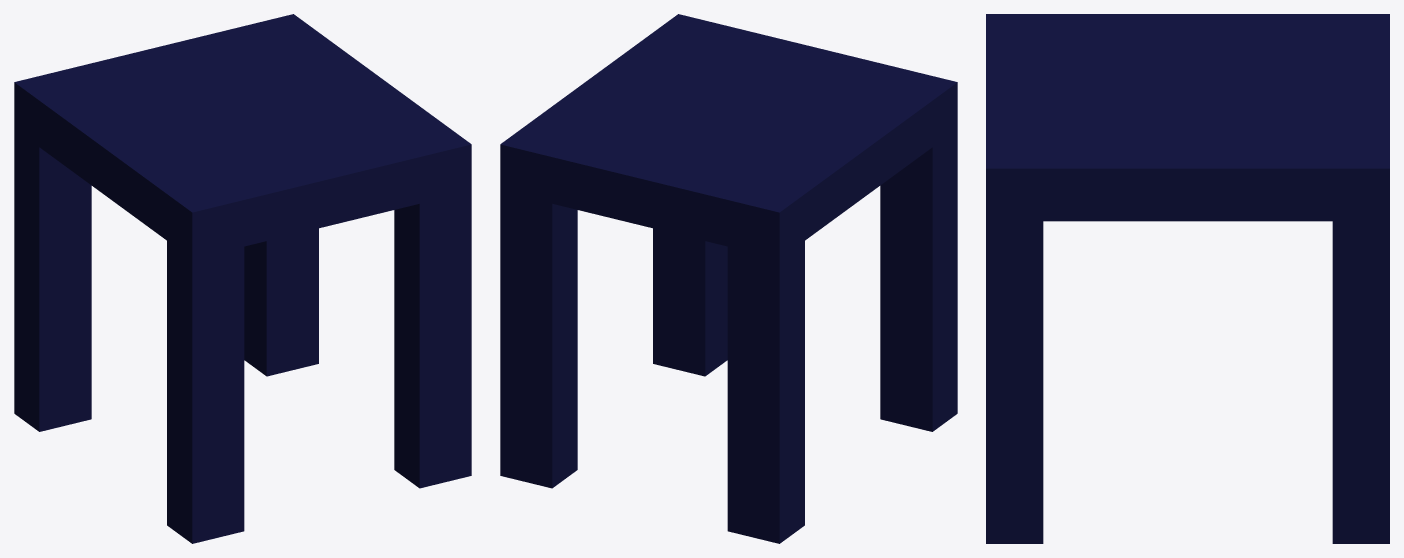
The model's file is SM_Chair.fbx.
The picture shows the model from 3 angles, left to right: view 1: azimuth 30°, elevation 25°; view 2: azimuth 150°, elevation 25°; view 3: azimuth 270°, elevation 25°; orthographic projection. The views are drawn at different scales.
Visible parts, largest first — view 1: SM_Chair; view 2: SM_Chair; view 3: SM_Chair.
Part boxes in pixels (x1,y1,x2,y2): SM_Chair: (14, 14, 471, 543); SM_Chair: (500, 14, 957, 543); SM_Chair: (986, 14, 1389, 543).
Bounding box in the file's own units: 1.61 × 1.82 × 1.78.
